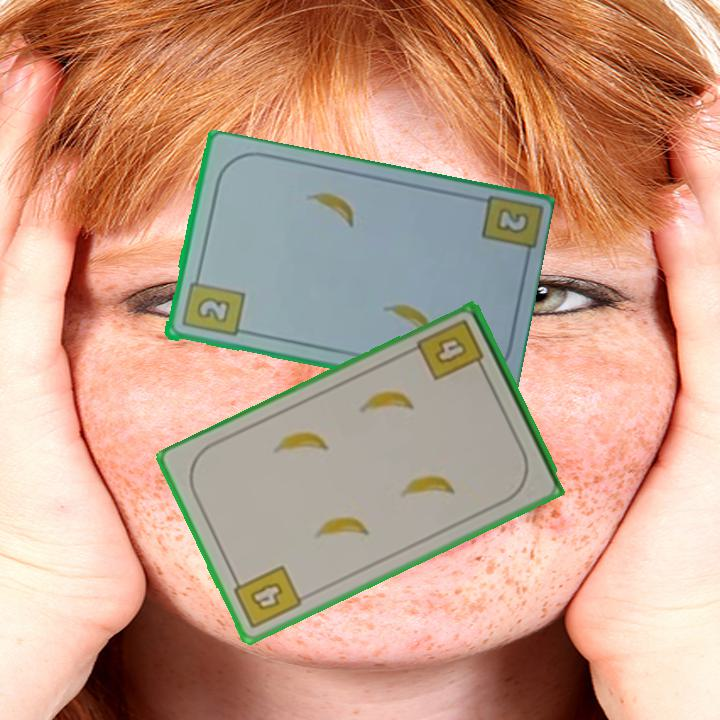2b: (178, 270, 246, 340), (477, 193, 540, 266)
4b: (228, 562, 305, 632), (413, 316, 489, 384)
